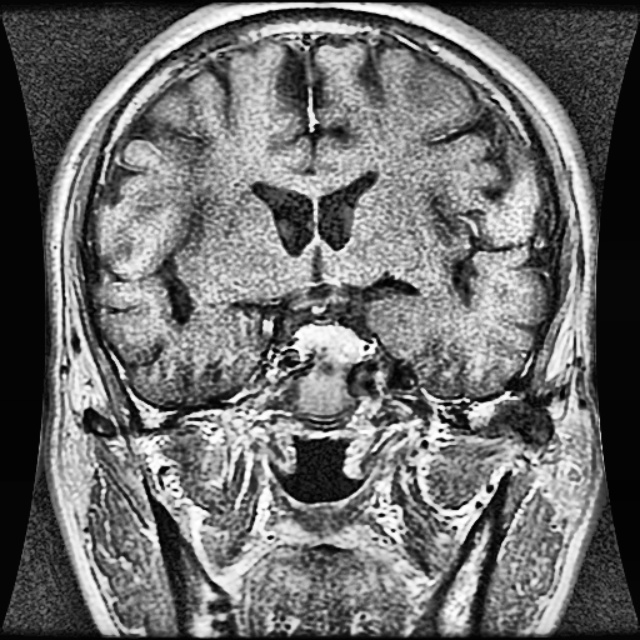Pituitary: (295, 325, 368, 362)
